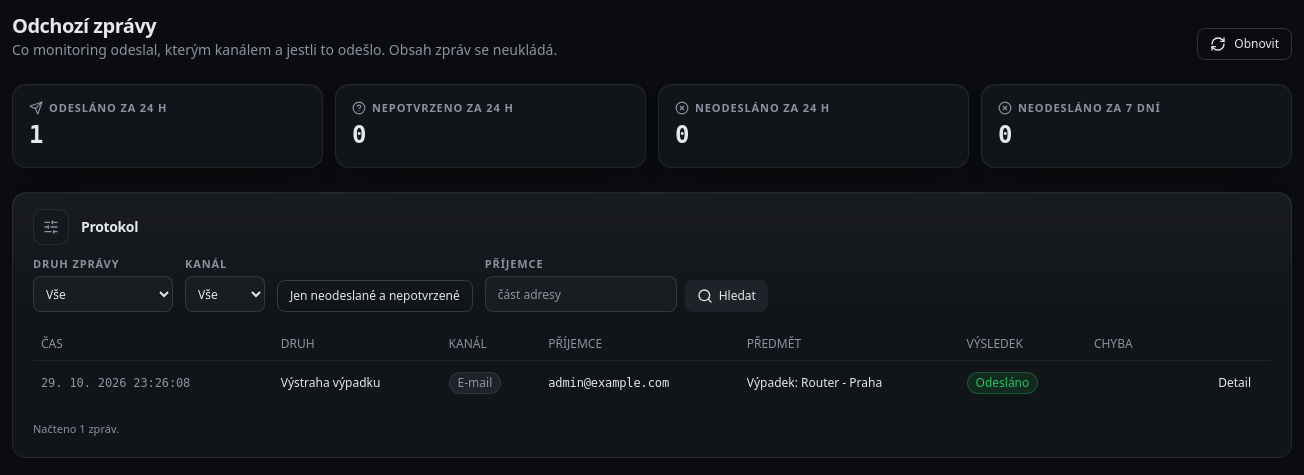
Test case: Odchozí zprávy › filtr bez výsledku neříká, že se nikdy nic neodeslalo
This screenshot has width=1304, height=475.
Expected: the text "admin@example.com" is shown, [540,360,739,405]
Select "Denní připomínka" in the dropdown labelled "Druh zprávy" at (103, 294), box [33,276,173,312]
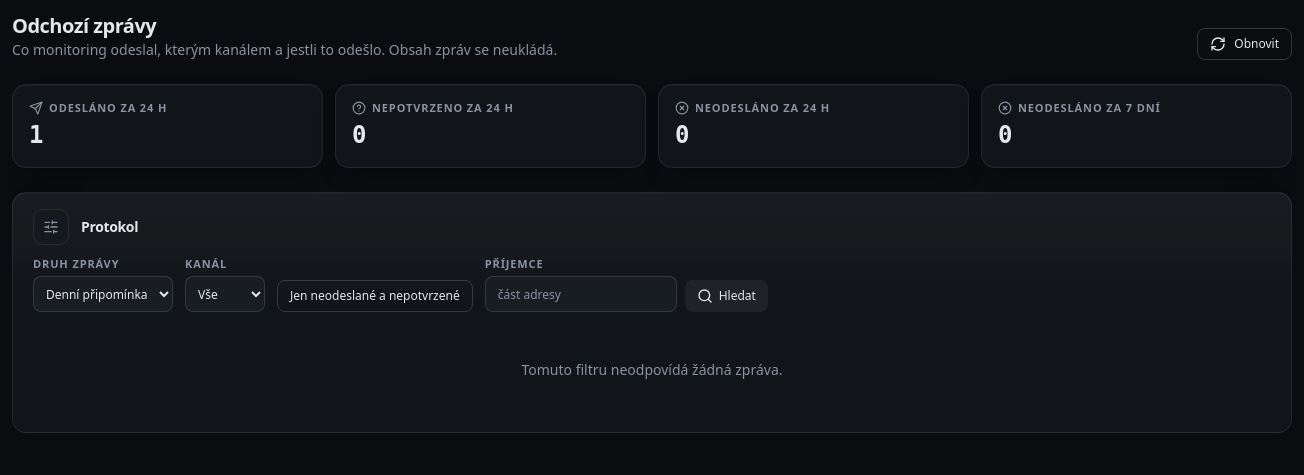
Result: the text "Tomuto filtru neodpovídá žádná zpráva." is shown at [522,360,783,379]
